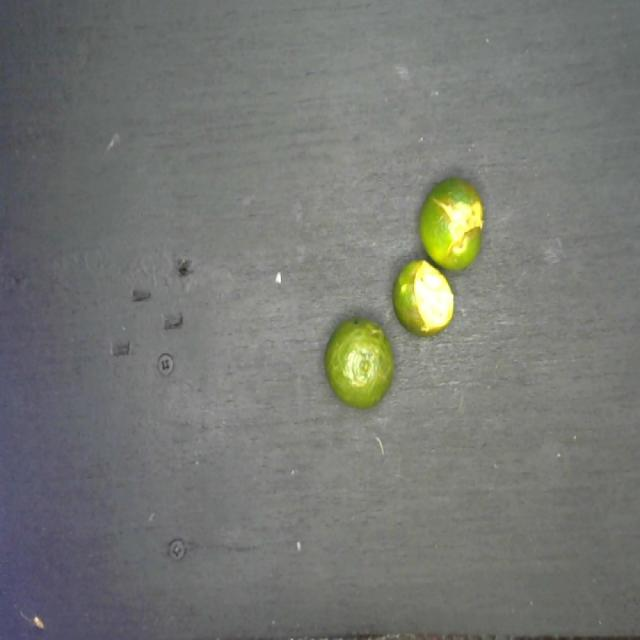biodegradable: (321, 161, 488, 413)
